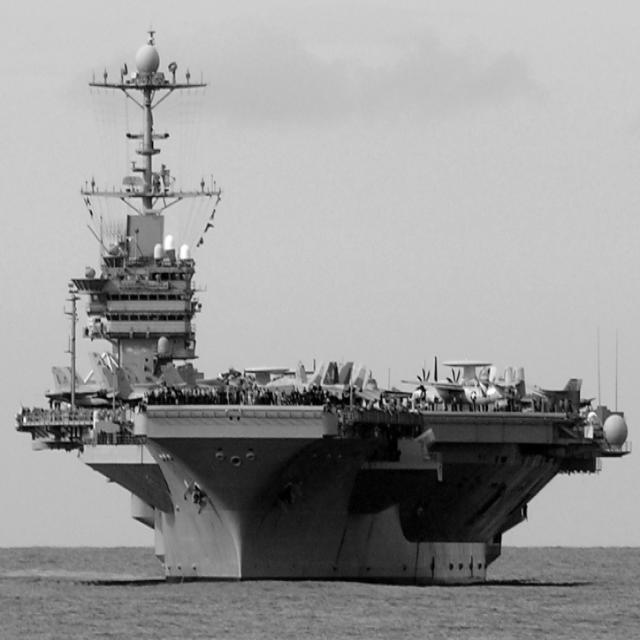Portanaves: (10, 16, 640, 600)
